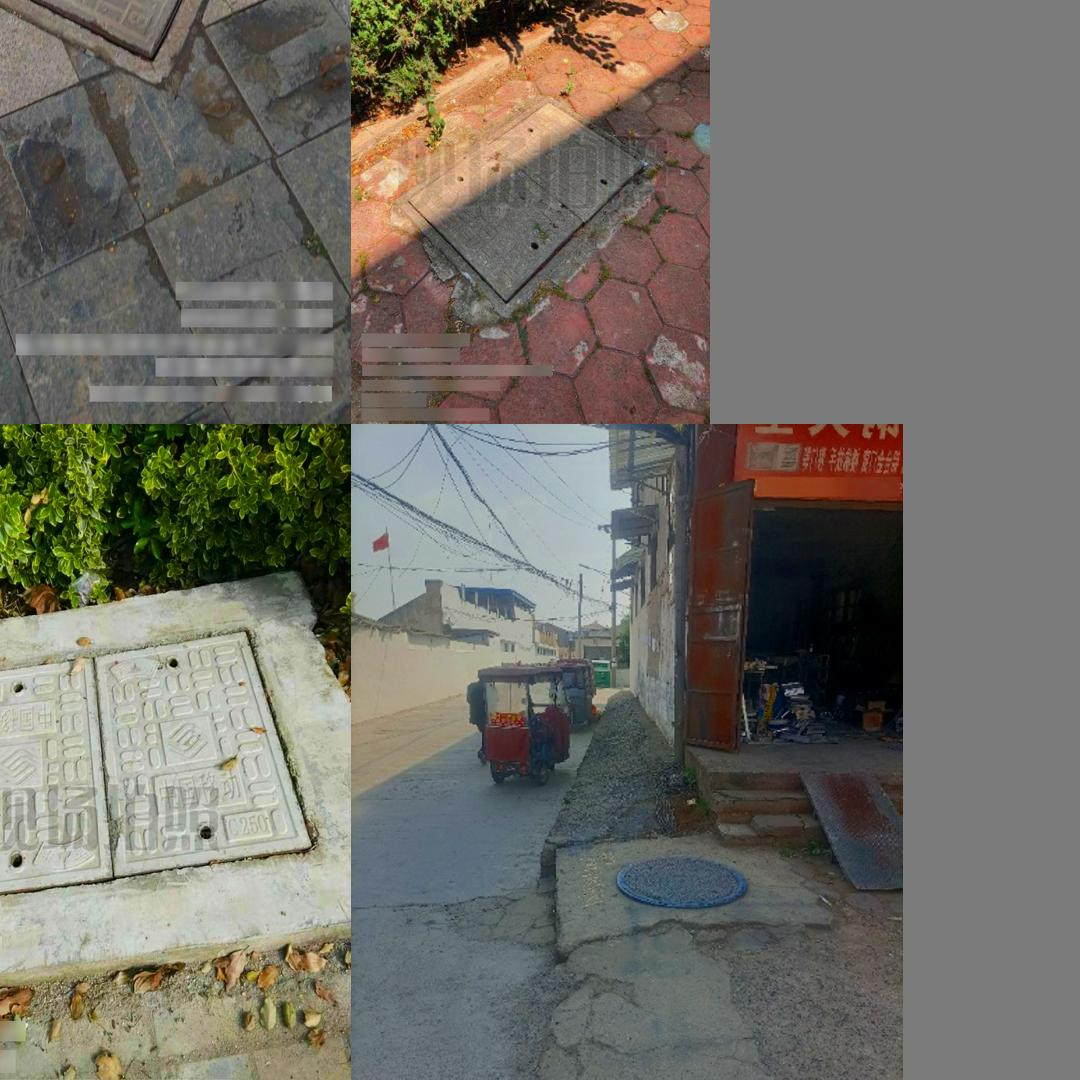good: (0, 625, 314, 908), (394, 96, 657, 320), (0, 0, 306, 87), (610, 841, 751, 904)
